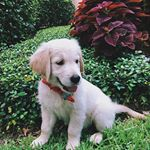puppy: (26, 35, 92, 150)
